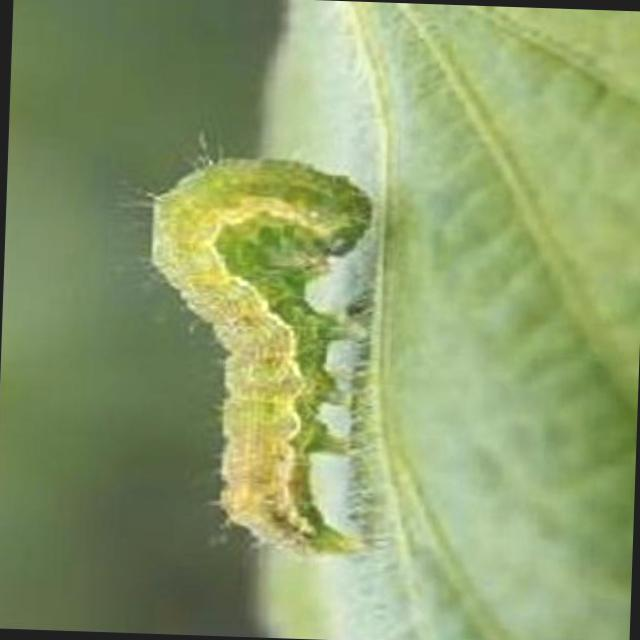Cotton bollworm: (93, 142, 428, 584)
